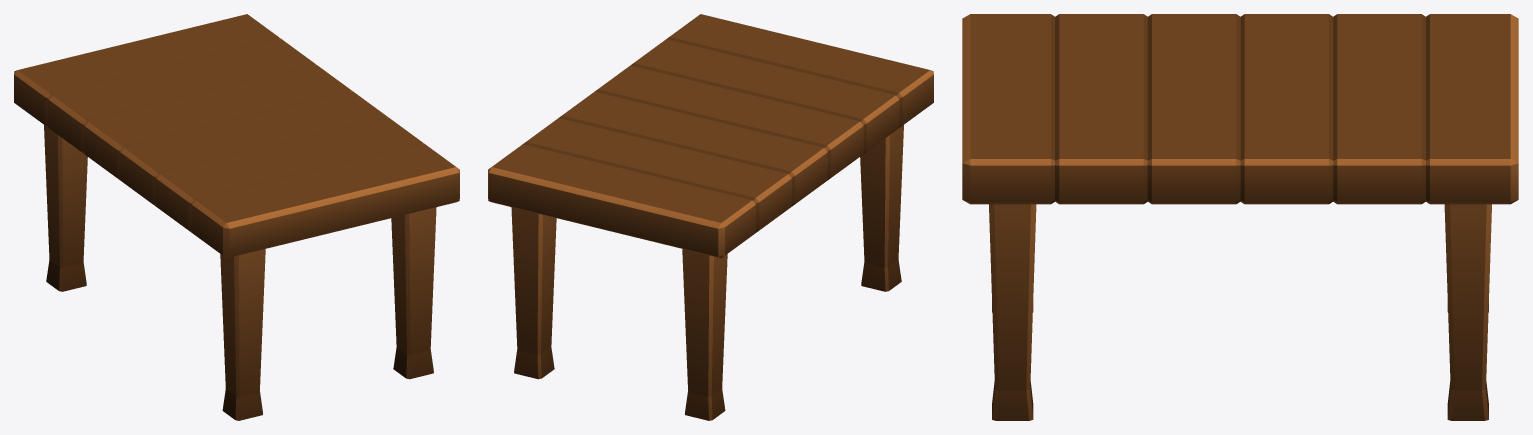
File: Table-1-1.fbx
3 views of the same model, side by side, from view 1: azimuth 30°, elevation 25°; view 2: azimuth 150°, elevation 25°; view 3: azimuth 270°, elevation 25° (orthographic). The views are drawn at different scales.
Parts seen in each view (by area): view 1: Table-1-1; view 2: Table-1-1; view 3: Table-1-1.
Part boxes in pixels (<box>): Table-1-1: <box>14,14,459,420</box>; Table-1-1: <box>488,14,933,420</box>; Table-1-1: <box>962,14,1518,420</box>.
Bounding box in the file's own units: 148 × 125 × 233.
